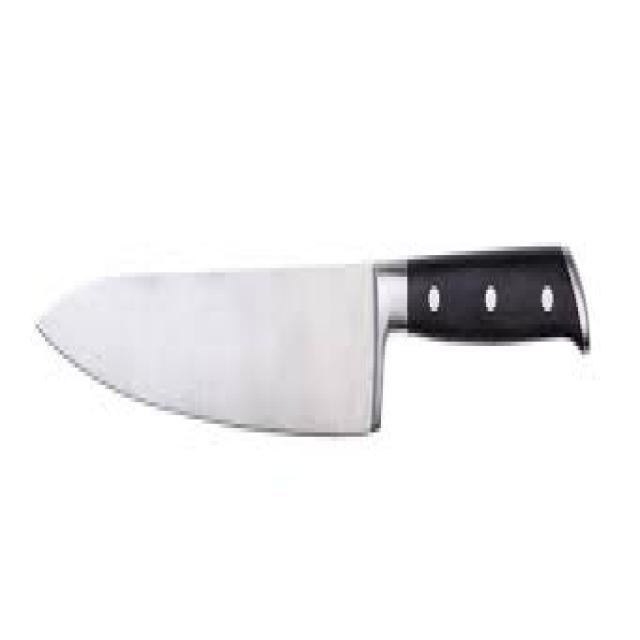Knife: (34, 242, 589, 437)
